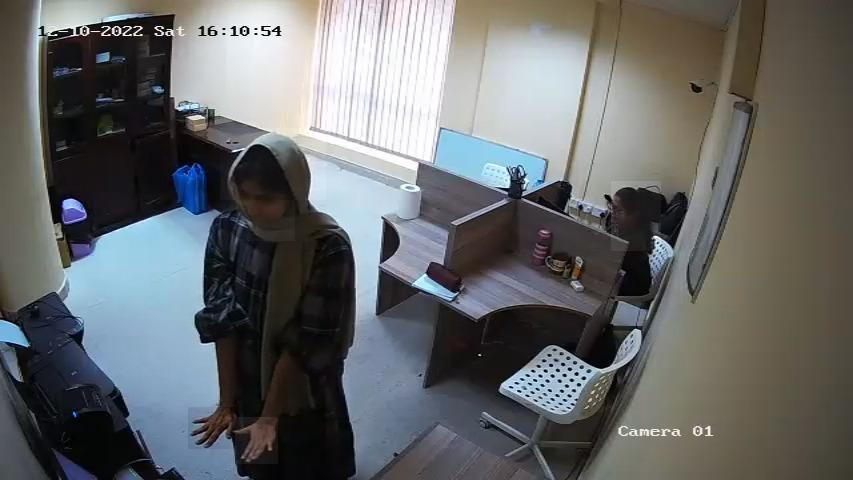no_apron: (236, 418, 278, 465), (188, 407, 235, 449)
no_gloves: (221, 128, 327, 200), (611, 181, 661, 251)
no_hairnet: (236, 187, 295, 241), (605, 195, 632, 227)
